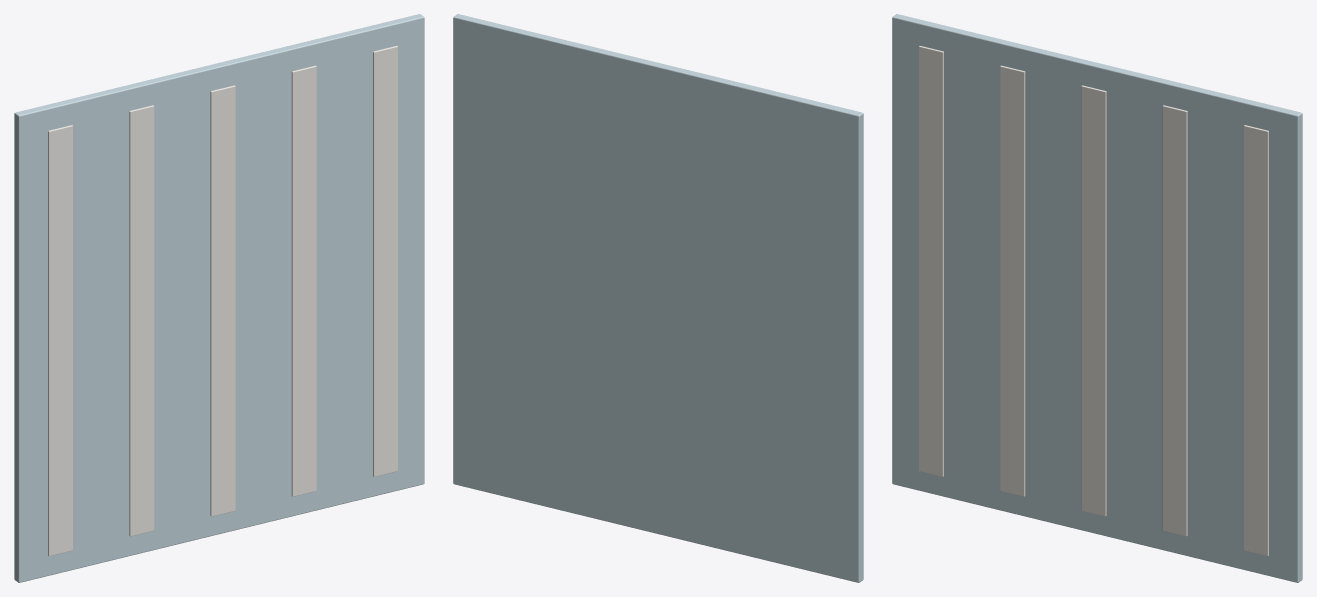
Rendered from nursery_paint_stripes.glb.
3 views of the same model, side by side, from view 1: azimuth 30°, elevation 25°; view 2: azimuth 150°, elevation 25°; view 3: azimuth 330°, elevation 25° (orthographic).
Visible parts, largest first — view 1: Tint.008, Stripe.008, Stripe.006, Stripe.007, Stripe.005, Stripe.009; view 2: Tint.008; view 3: Tint.008, Stripe.006, Stripe.007, Stripe.008, Stripe.009, Stripe.005.
Boxes of the visible parts, x1,y1,x2,y2 form: Tint.008: [14, 14, 424, 582]; Stripe.008: [291, 65, 316, 496]; Stripe.006: [129, 105, 154, 536]; Stripe.007: [210, 85, 235, 516]; Stripe.005: [48, 125, 72, 556]; Stripe.009: [373, 46, 397, 476]; Tint.008: [453, 14, 863, 582]; Tint.008: [892, 14, 1302, 582]; Stripe.006: [1000, 65, 1025, 496]; Stripe.007: [1081, 85, 1106, 516]; Stripe.008: [1162, 105, 1187, 536]; Stripe.009: [1244, 125, 1268, 556]; Stripe.005: [919, 46, 943, 476].
Size of the model in its own units: 2 by 2.2 by 0.055.
